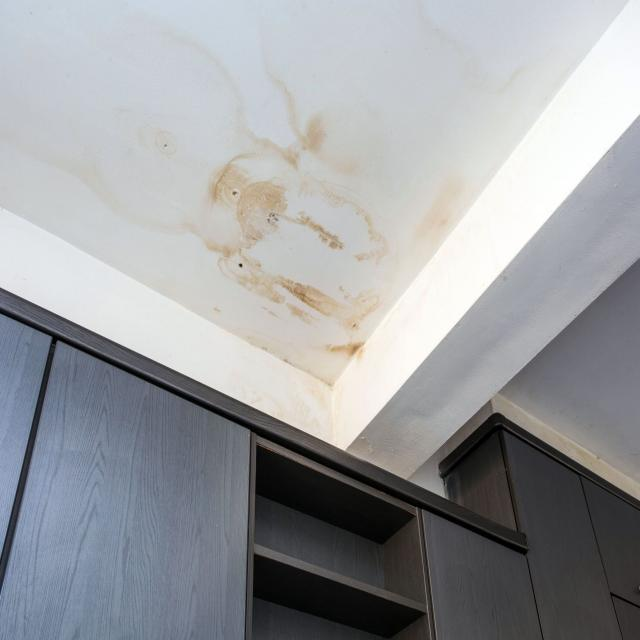Crack: (236, 260, 246, 271), (162, 141, 171, 153), (231, 191, 239, 199)
leak: (24, 12, 456, 382)
